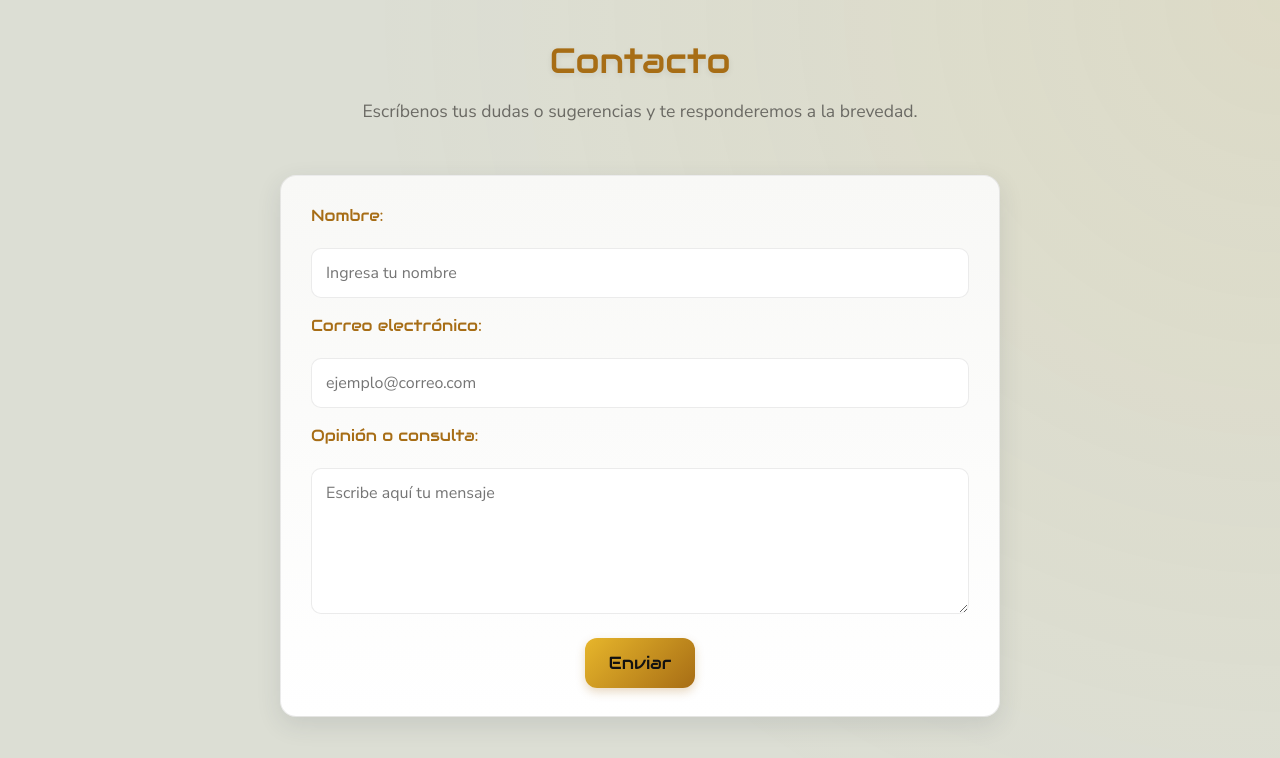
Test: Contact Page › Muestra mensaje de error si los campos estan vacios al enviar el formulario
Click the button "Enviar" at (640, 663), box [585,638,696,688]
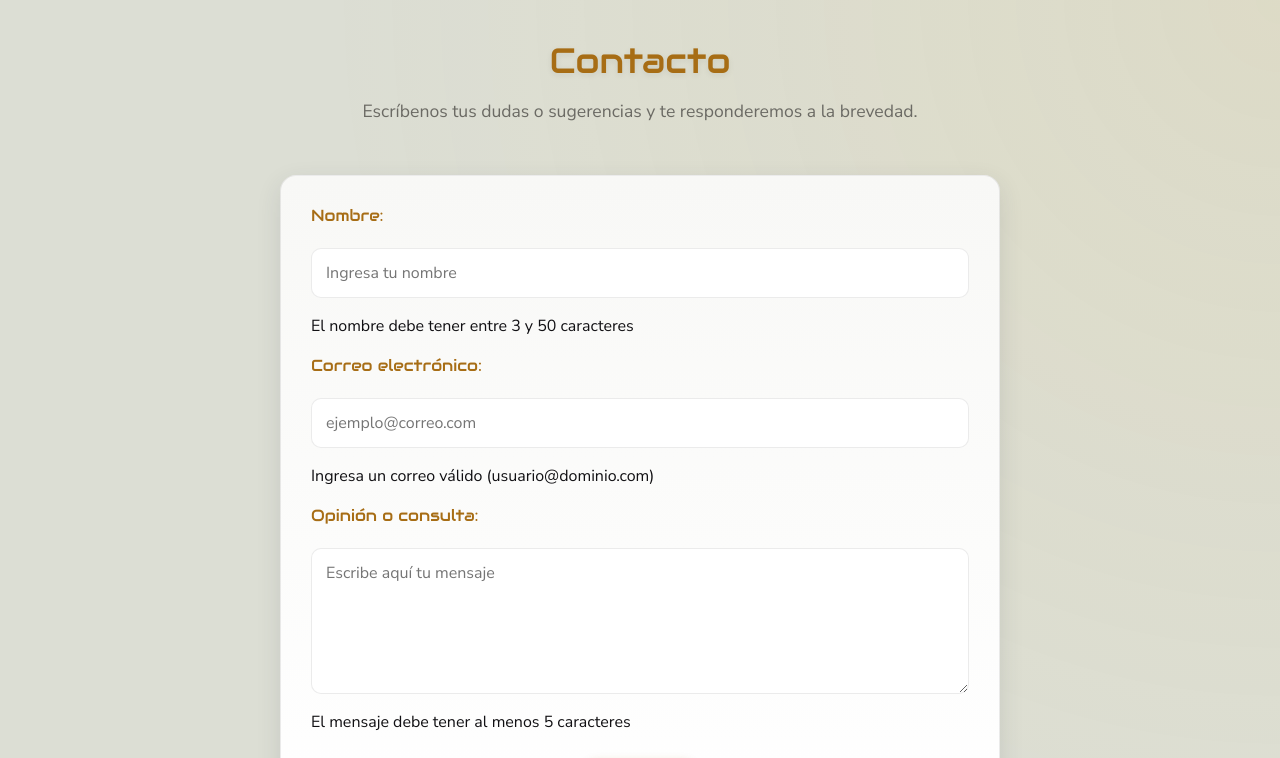
Expected: the text "El nombre debe tener entre 3 y 50 caracteres" is shown, [311,315,634,337]
Expected: the text "Ingresa un correo válido (usuario@dominio.com)" is shown, [311,465,654,487]
Expected: the text "El mensaje debe tener al menos 5 caracteres" is shown, [311,711,631,733]
